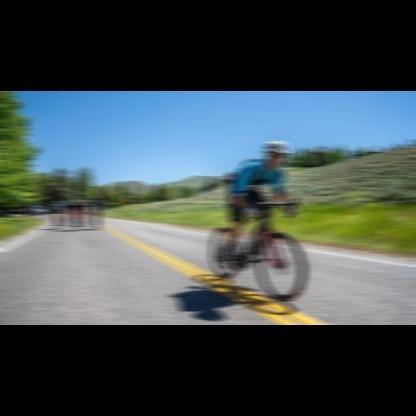Bicycle: (188, 189, 321, 304), (86, 207, 107, 234), (42, 204, 55, 226), (76, 206, 85, 229), (68, 206, 75, 226), (59, 205, 64, 229)
